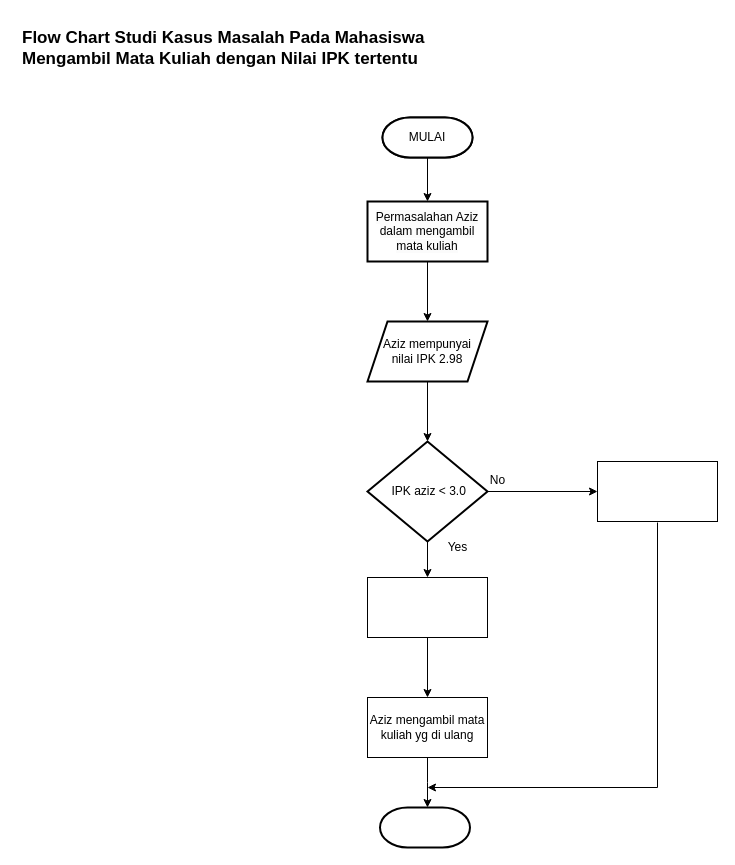
The diagram is 735 pixels wide and 865 high, and some of its shapes have lost their labels. Each missing label, with the centre of its shape:
Dapat Mengambil 20 Sks: pixel 427 607
Dapat Mengambil Mata Kuliah Wajib: pixel 657 491
END: pixel 424 827
